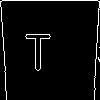T: (24, 25, 51, 71)
